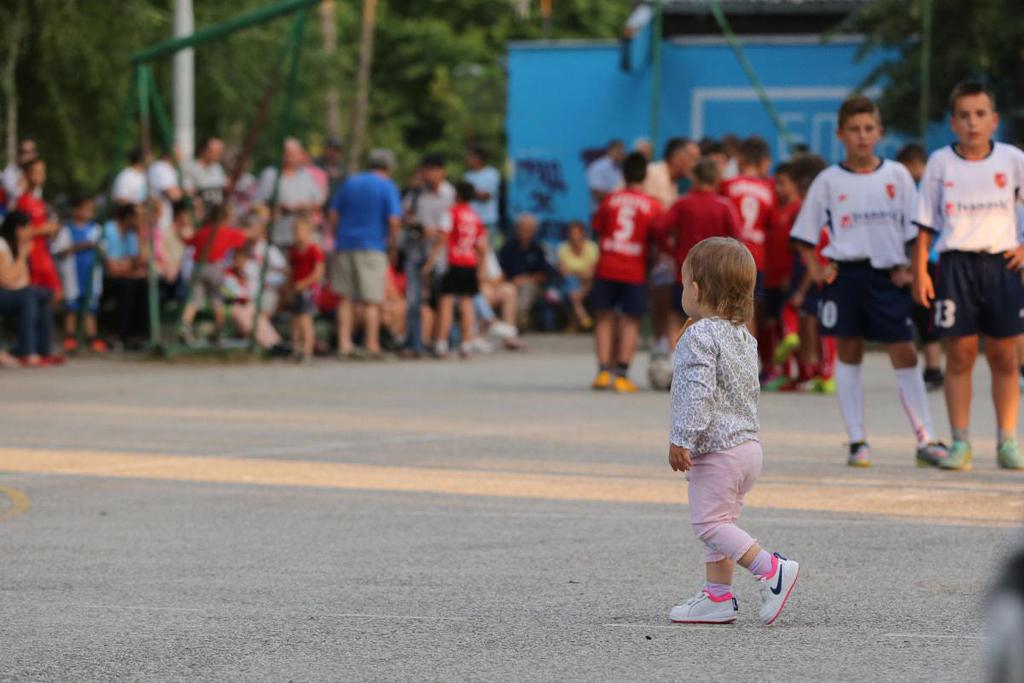child: (631, 234, 805, 633)
